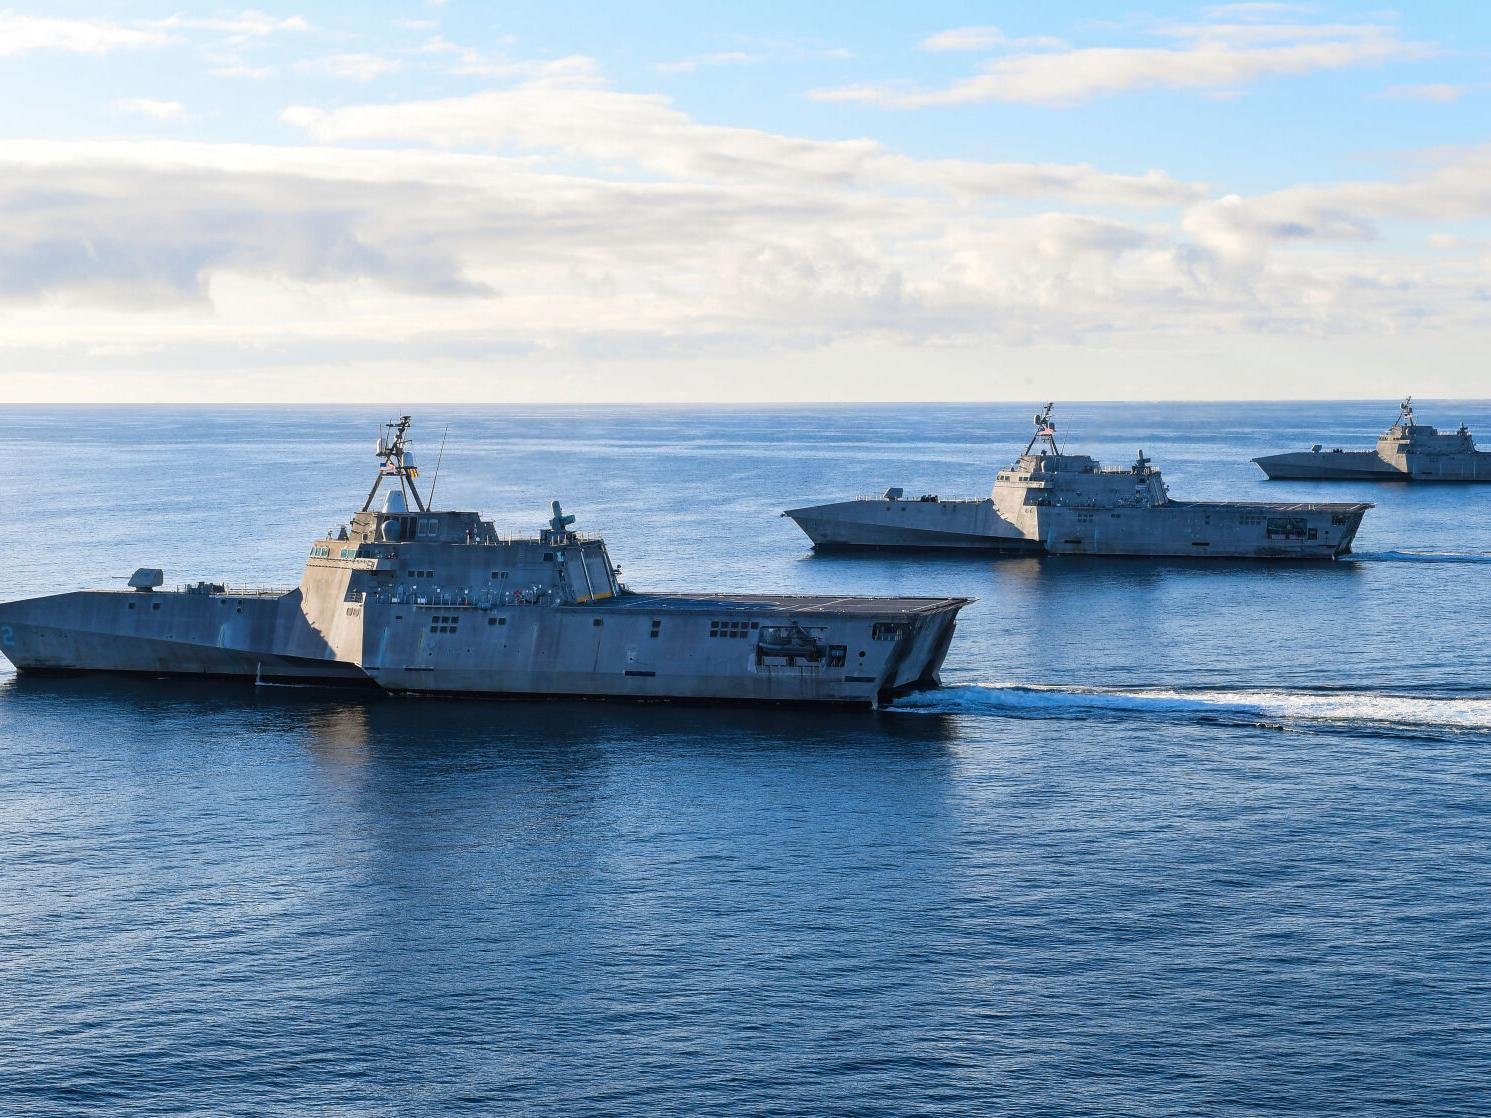Ship: (4, 481, 969, 725), (768, 418, 1379, 570), (1264, 392, 1491, 494)
